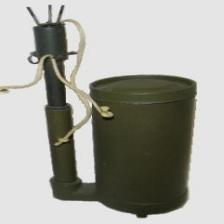M2A1: (12, 2, 204, 216)
